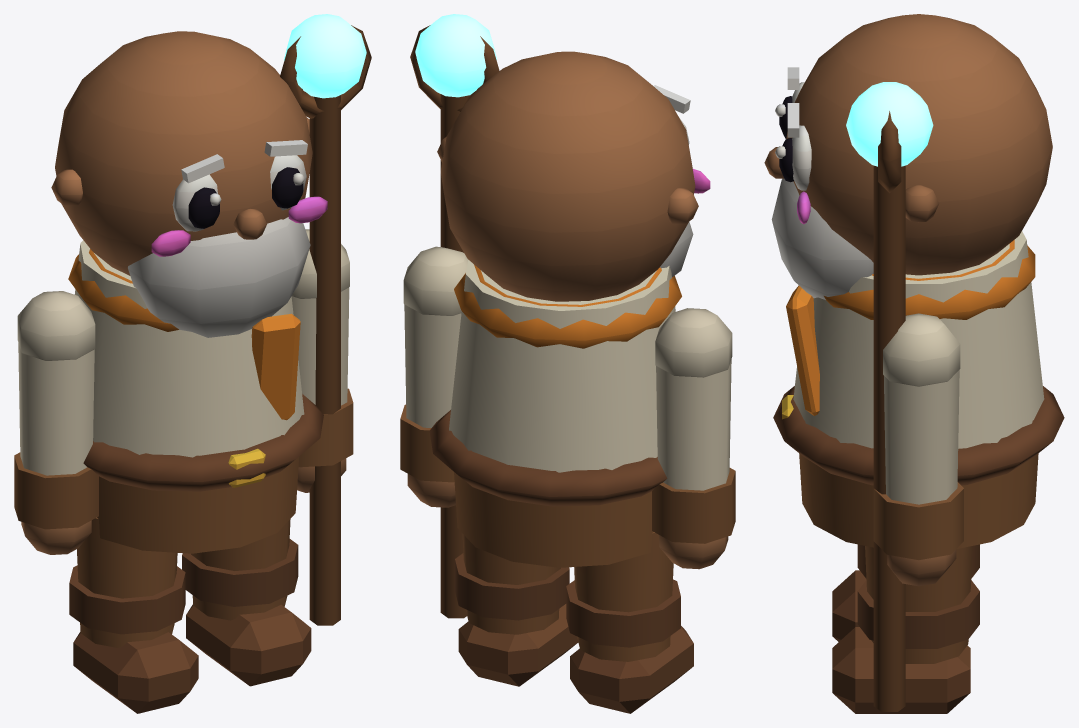
Rendered from hero_ash.glb.
3 renders of one model, left to right at view 1: azimuth 30°, elevation 25°; view 2: azimuth 150°, elevation 25°; view 3: azimuth 270°, elevation 25°, orthographic. The views are drawn at different scales.
Visible parts, largest first — view 1: body_t0_palette, armr_t0_palette, arml_t0_palette, legl_t0_palette, legr_t0_palette, armr_t0_rune; view 2: body_t0_palette, arml_t0_palette, armr_t0_palette, legl_t0_palette, legr_t0_palette, armr_t0_rune; view 3: body_t0_palette, armr_t0_palette, legr_t0_palette, armr_t0_rune, legl_t0_palette.
Boxes of the visible parts, left/top/right/bottom form: body_t0_palette: left=51, top=31, right=327, bottom=553; armr_t0_palette: left=280, top=25, right=371, bottom=625; arml_t0_palette: left=14, top=291, right=98, bottom=554; legl_t0_palette: left=69, top=517, right=198, bottom=713; legr_t0_palette: left=182, top=519, right=311, bottom=686; armr_t0_rune: left=284, top=14, right=366, bottom=98; body_t0_palette: left=429, top=51, right=710, bottom=567; arml_t0_palette: left=652, top=308, right=735, bottom=569; armr_t0_palette: left=400, top=25, right=499, bottom=618; legl_t0_palette: left=566, top=532, right=693, bottom=713; legr_t0_palette: left=455, top=534, right=578, bottom=686; armr_t0_rune: left=415, top=14, right=496, bottom=97; body_t0_palette: left=764, top=14, right=1064, bottom=548; armr_t0_palette: left=873, top=111, right=963, bottom=711; legr_t0_palette: left=832, top=546, right=979, bottom=713; armr_t0_rune: left=846, top=82, right=933, bottom=166; legl_t0_palette: left=832, top=544, right=979, bottom=641.
Bounding box in the file's own units: 0.277 × 0.495 × 0.206.
